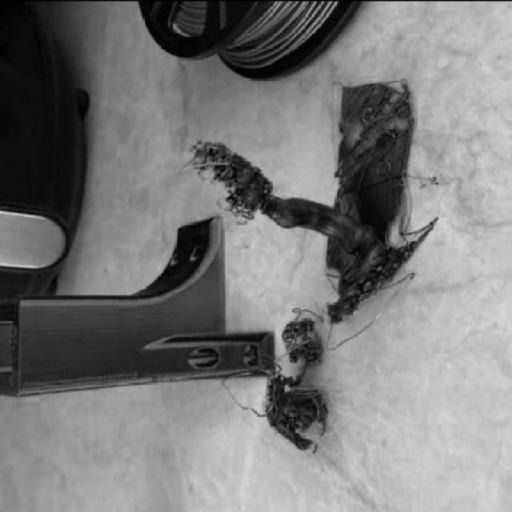spaghetti_and_stringing: (318, 164, 438, 350), (213, 304, 336, 459), (177, 131, 273, 226)
